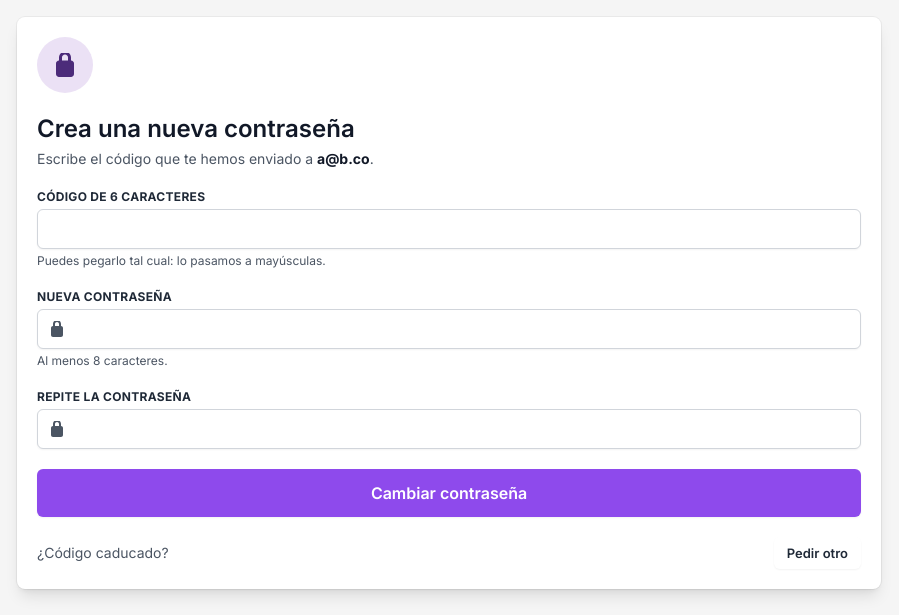
Scenario: restablecer page › normalises pasted codes
Click the field labelled "Código de 6 caracteres".
click(449, 229)  # box [37,209,861,249]
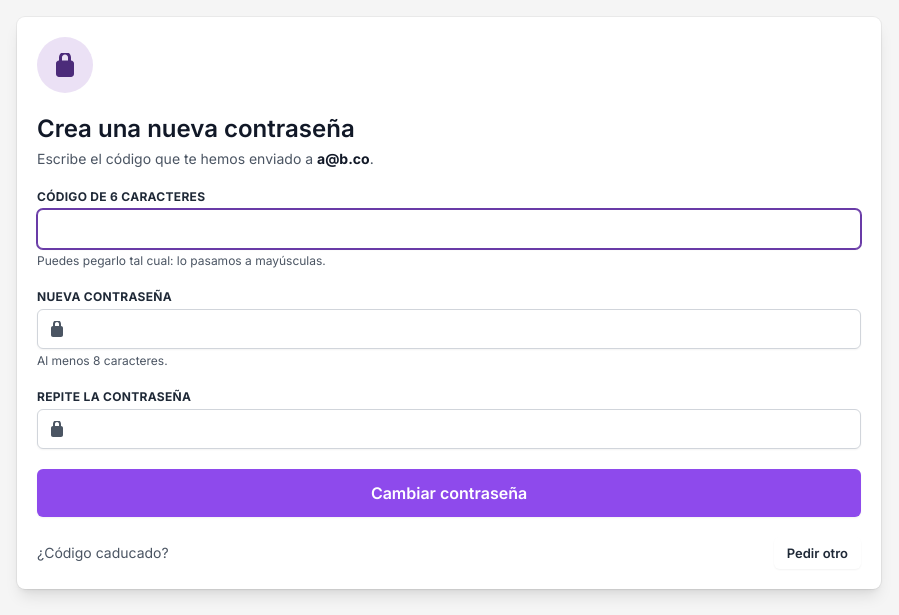
Type keys " k7x-2m9 "
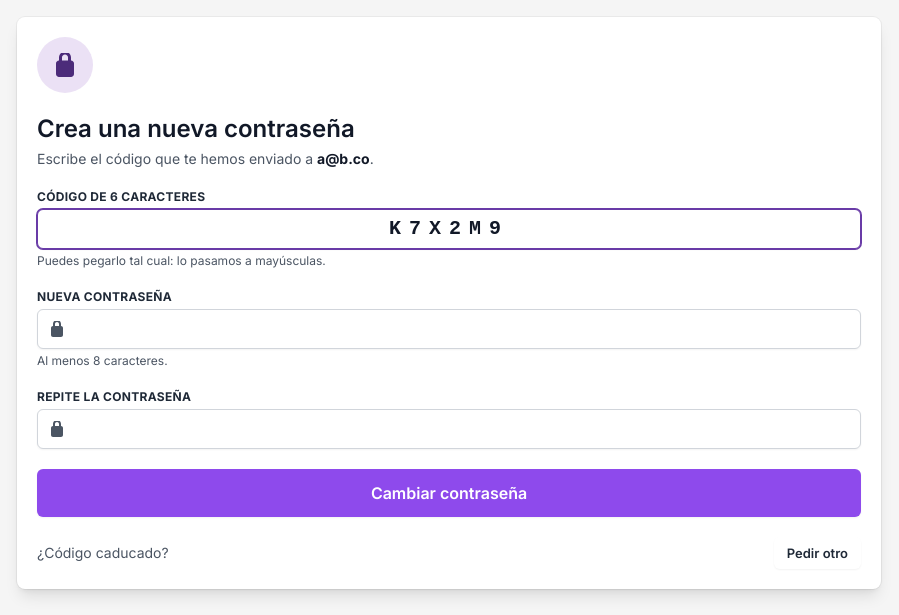
Expected: the field labelled "Código de 6 caracteres" holds "K7X2M9", [37,209,861,249]
